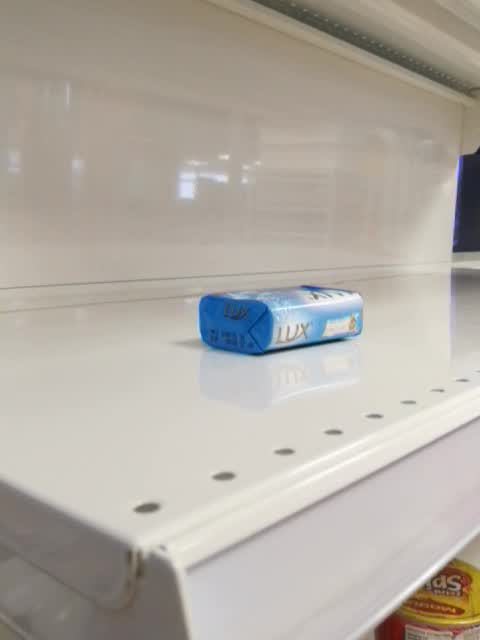soap: (196, 285, 366, 358)
